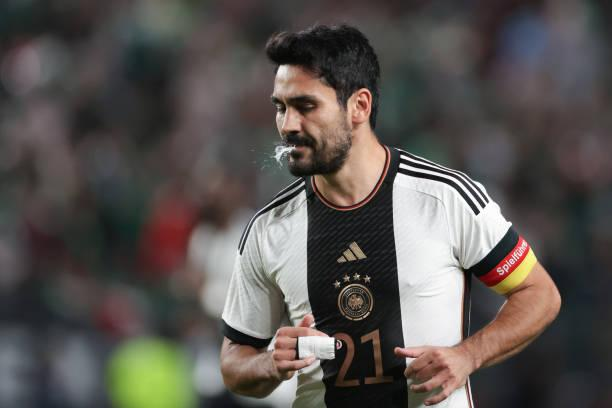Spitting: (225, 10, 421, 195)
